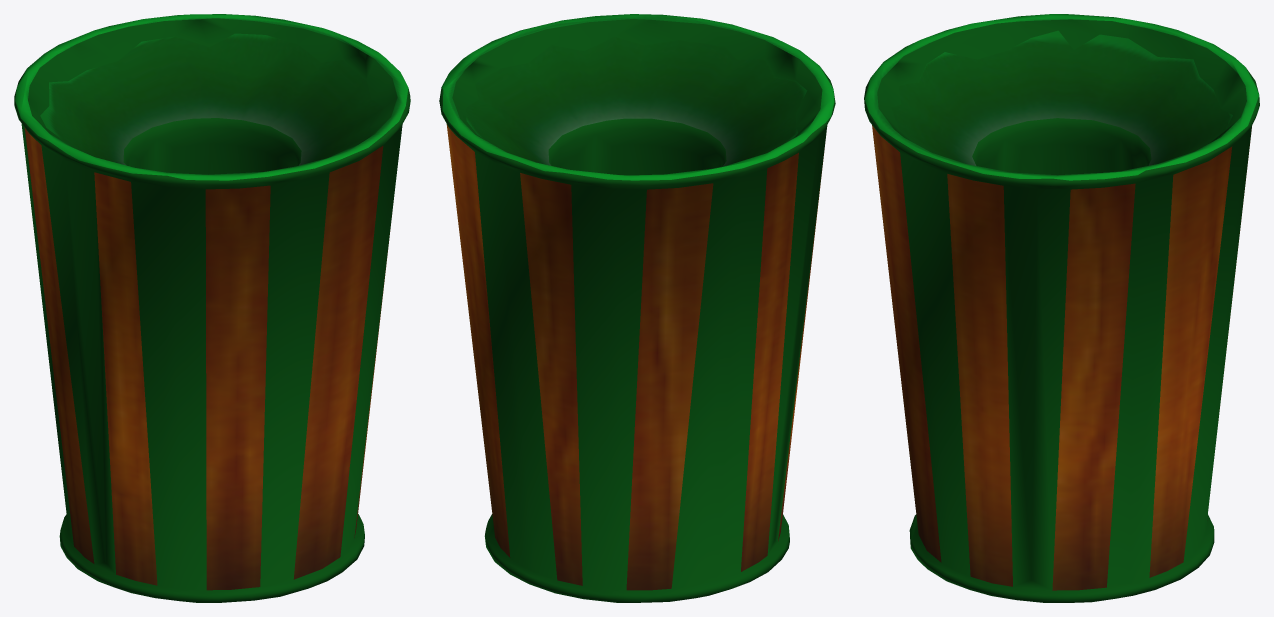
The model's file is trash_bin.dae.
3 views of the same model, side by side, from view 1: azimuth 30°, elevation 25°; view 2: azimuth 150°, elevation 25°; view 3: azimuth 270°, elevation 25° (orthographic).
Parts seen in each view (by area): view 1: 10573_TrashBin_v03_L3.001; view 2: 10573_TrashBin_v03_L3.001; view 3: 10573_TrashBin_v03_L3.001.
Boxes of the visible parts, box(x1,y1,x2,y2) form: 10573_TrashBin_v03_L3.001: box(14, 14, 410, 602); 10573_TrashBin_v03_L3.001: box(439, 14, 835, 602); 10573_TrashBin_v03_L3.001: box(864, 14, 1259, 602).
Bounding box in the file's own units: 0.2846 × 0.2841 × 0.3518.
1 material, 1 textured.
